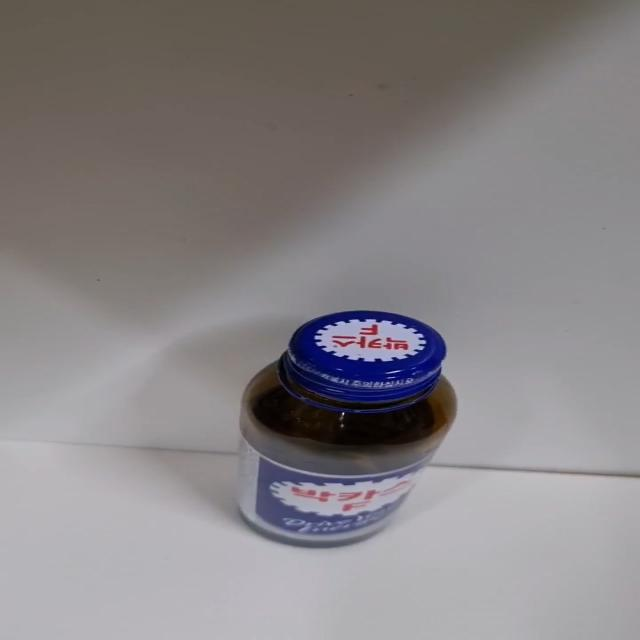Glass: (236, 310, 459, 551)
